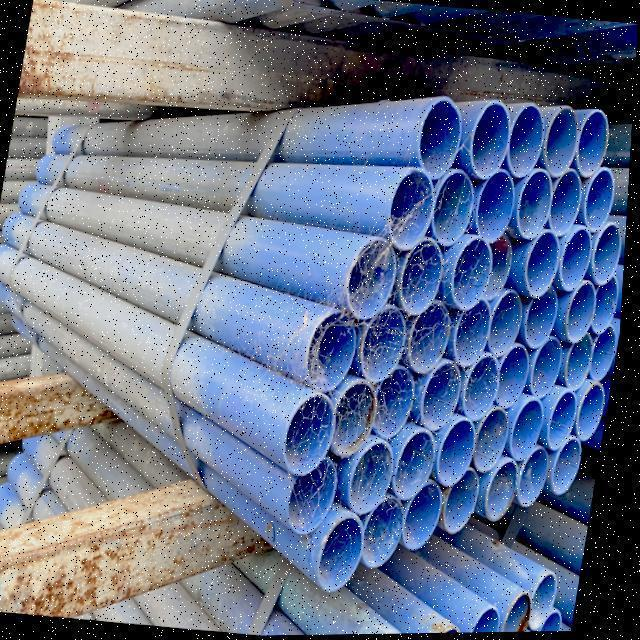pipe: (402, 233, 510, 321), (176, 555, 276, 635), (348, 432, 443, 515), (340, 231, 406, 329), (282, 385, 349, 480), (411, 92, 471, 188), (383, 163, 447, 253), (304, 304, 368, 394), (370, 484, 439, 563), (539, 105, 608, 183), (356, 303, 418, 389), (445, 231, 507, 317), (395, 236, 455, 322), (346, 435, 405, 518), (329, 374, 385, 461), (427, 167, 483, 253), (464, 98, 519, 185), (393, 426, 450, 505), (418, 357, 475, 436), (359, 495, 415, 574), (517, 224, 567, 312), (508, 164, 561, 246), (319, 512, 374, 591), (404, 299, 458, 377), (498, 103, 550, 183), (459, 347, 512, 425), (435, 413, 486, 492), (470, 167, 521, 246), (400, 481, 452, 556), (470, 403, 519, 480), (524, 330, 572, 407), (451, 297, 500, 372), (555, 218, 600, 299), (441, 464, 489, 539), (487, 289, 534, 364), (558, 273, 604, 347), (552, 429, 596, 506), (521, 282, 568, 354), (511, 395, 557, 467), (485, 455, 531, 526), (542, 384, 586, 456), (586, 220, 628, 295), (493, 341, 536, 414), (576, 373, 615, 453), (558, 331, 602, 398), (578, 167, 620, 236), (587, 319, 625, 395), (529, 564, 570, 634), (591, 268, 628, 345), (518, 441, 558, 512), (33, 0, 192, 13), (500, 589, 543, 634), (436, 611, 501, 635), (473, 599, 515, 634), (540, 607, 574, 633), (432, 617, 473, 635)
